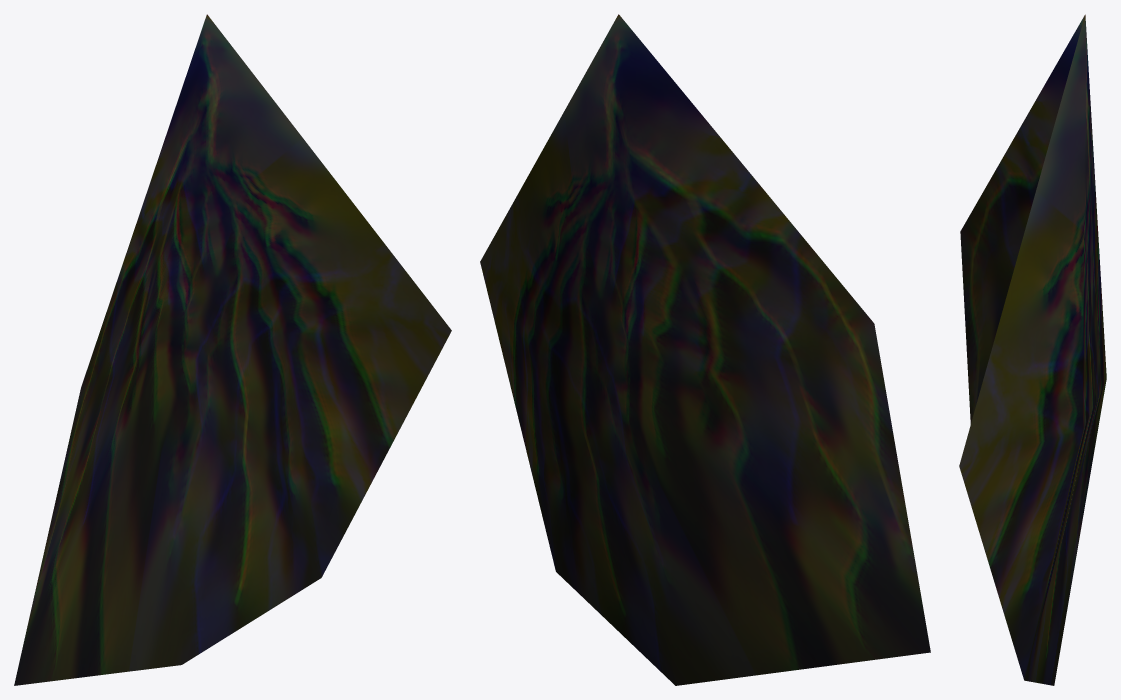
3 renders of one model, left to right at view 1: azimuth 30°, elevation 25°; view 2: azimuth 150°, elevation 25°; view 3: azimuth 270°, elevation 25°, orthographic. The views are drawn at different scales.
Visible parts, largest first — view 1: Plane_003; view 2: Plane_003; view 3: Plane_003.
Part boxes in pixels (x1,y1,x2,y2): Plane_003: (14,14,451,685); Plane_003: (480,14,930,685); Plane_003: (959,14,1106,685).
Size of the model in its own units: 1.76 by 2.47 by 0.4761.
